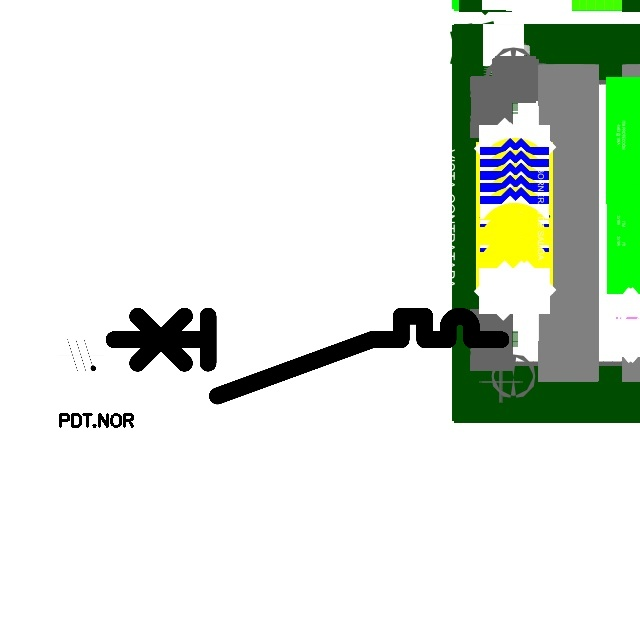interruptor_termomagnetico: (104, 306, 511, 405)
